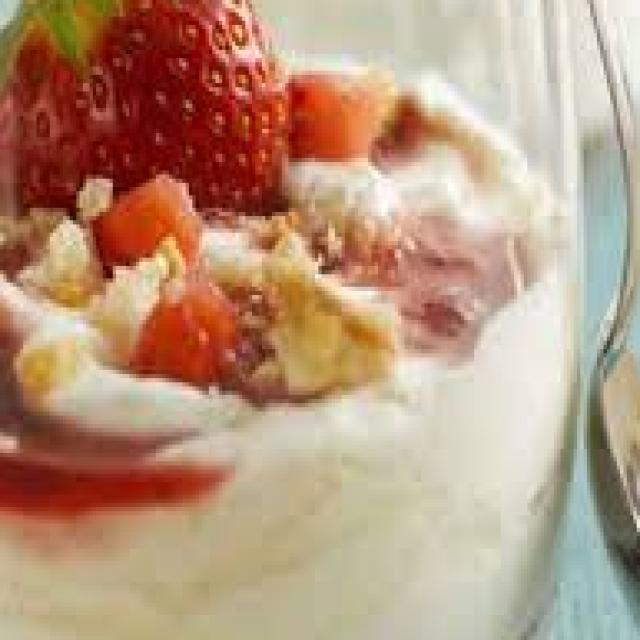inorganic: (5, 25, 553, 563)
